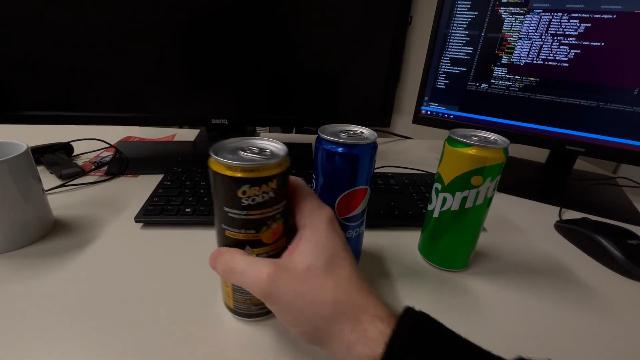OranSoda: (206, 134, 294, 324)
Pepsi: (310, 122, 378, 270)
Sprite: (416, 126, 510, 272)
